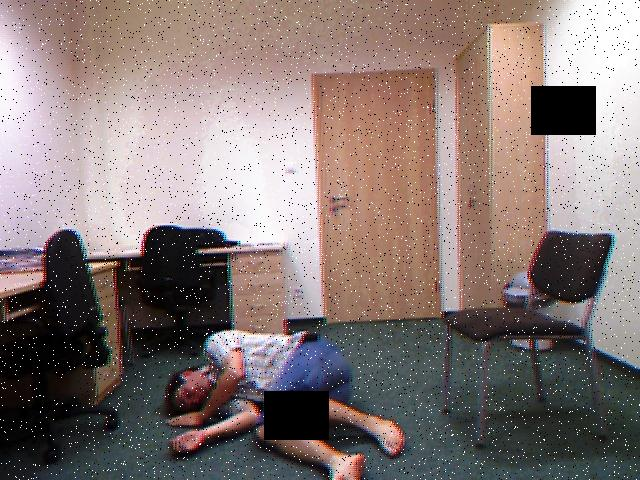fall: (157, 329, 418, 480)
